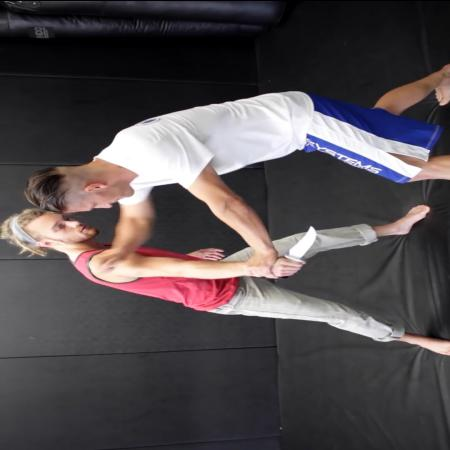long weapon: (276, 221, 324, 279)
